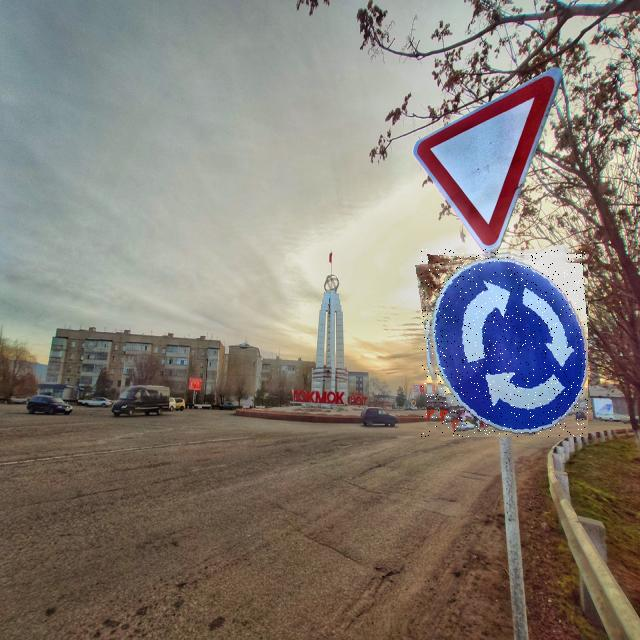roundabout: (421, 249, 588, 437)
